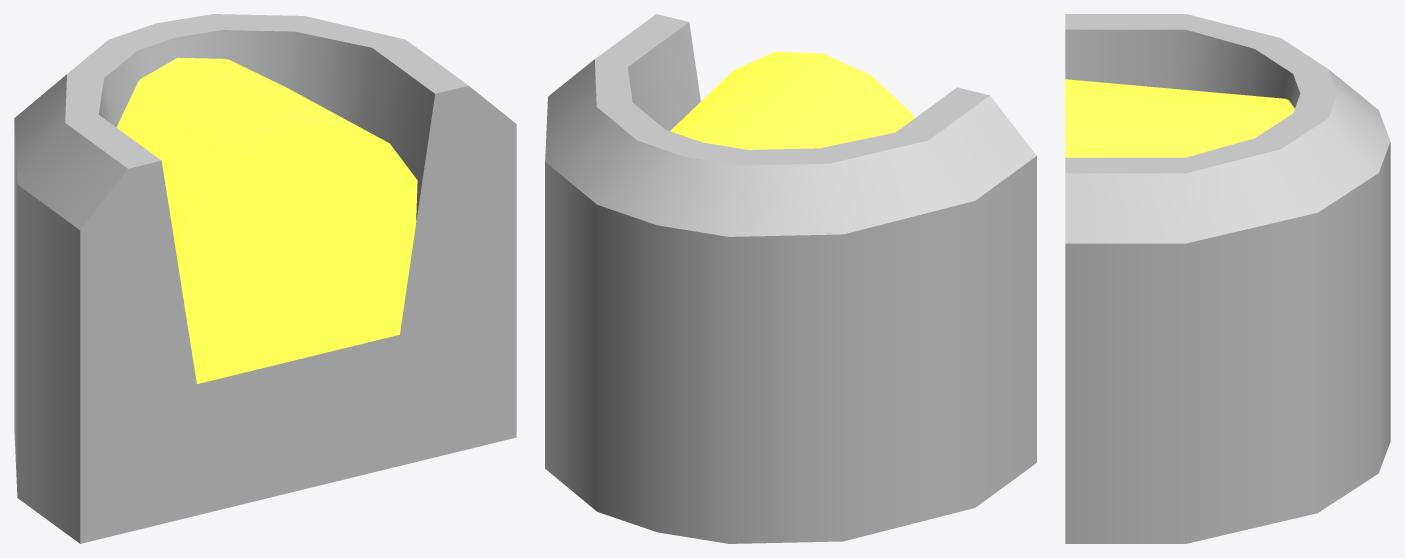
Rendered from SM_Module_PowerSocket.fbx.
3 renders of one model, left to right at view 1: azimuth 30°, elevation 25°; view 2: azimuth 150°, elevation 25°; view 3: azimuth 270°, elevation 25°, orthographic. The views are drawn at different scales.
Visible parts, largest first — view 1: SM_Module_PowerSocket; view 2: SM_Module_PowerSocket; view 3: SM_Module_PowerSocket.
Part boxes in pixels (x1=…): SM_Module_PowerSocket: x1=14, y1=14, x2=516, y2=543; SM_Module_PowerSocket: x1=545, y1=14, x2=1036, y2=543; SM_Module_PowerSocket: x1=1065, y1=14, x2=1390, y2=543.
Bounding box in the file's own units: 0.913 × 0.6148 × 0.7294.
